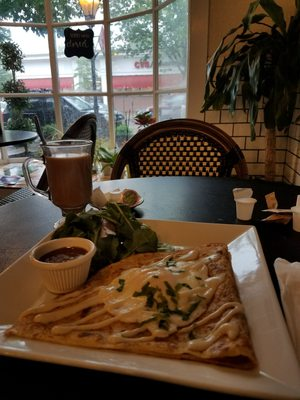sushi: (30, 236, 97, 295)
